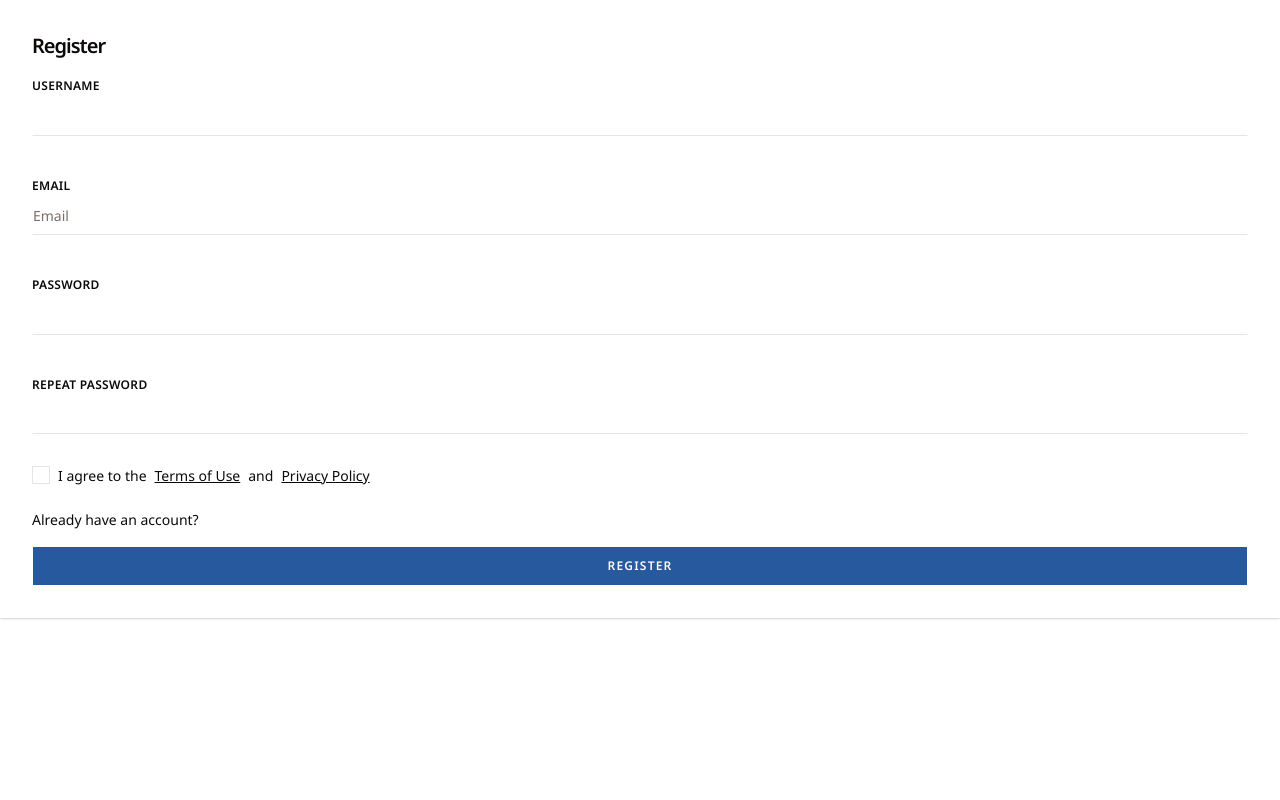
Test case: RegisterForm › tells the user when the email is already registered
The image size is (1280, 800).
Type "Ada" into the 1st field at point(640, 116), box x1=32 y1=96 x2=1248 y2=136
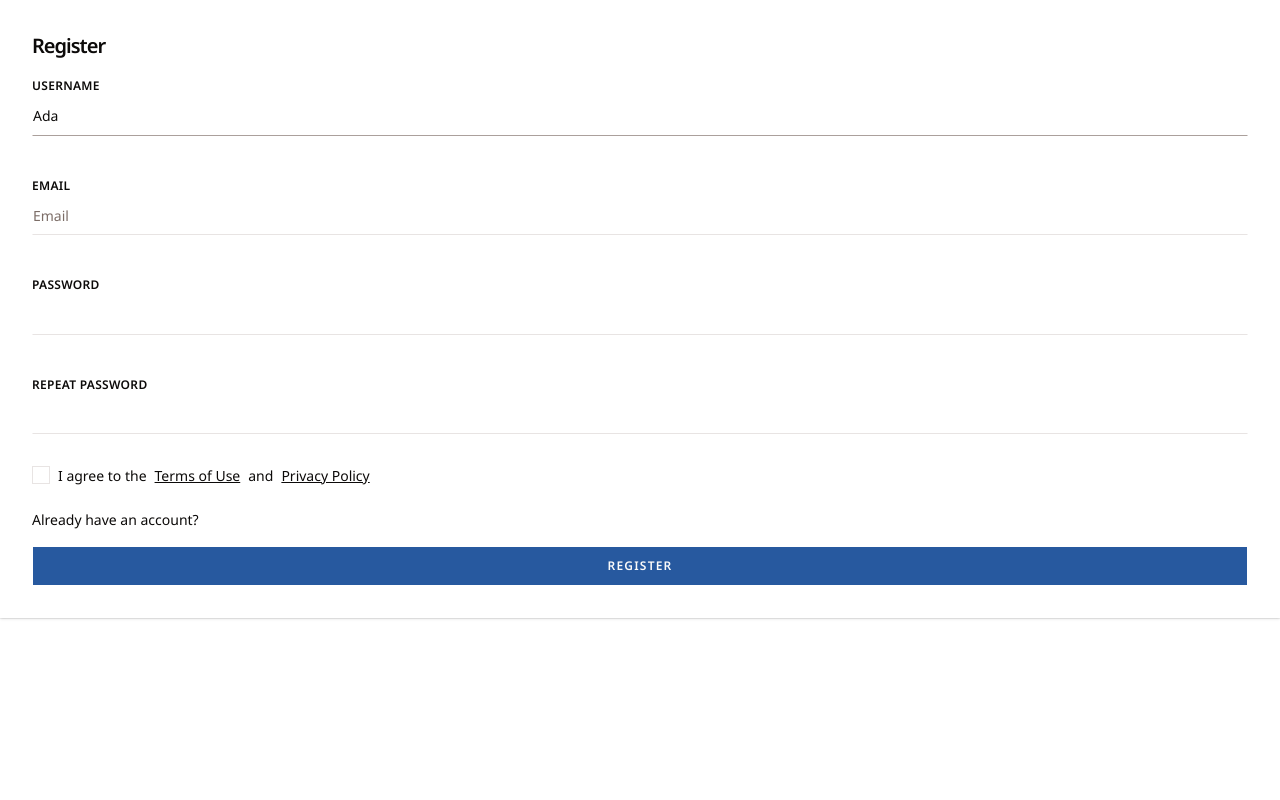
Type "ada@example.com" into the field with placeholder "Email" at point(640, 215), box x1=32 y1=195 x2=1248 y2=235
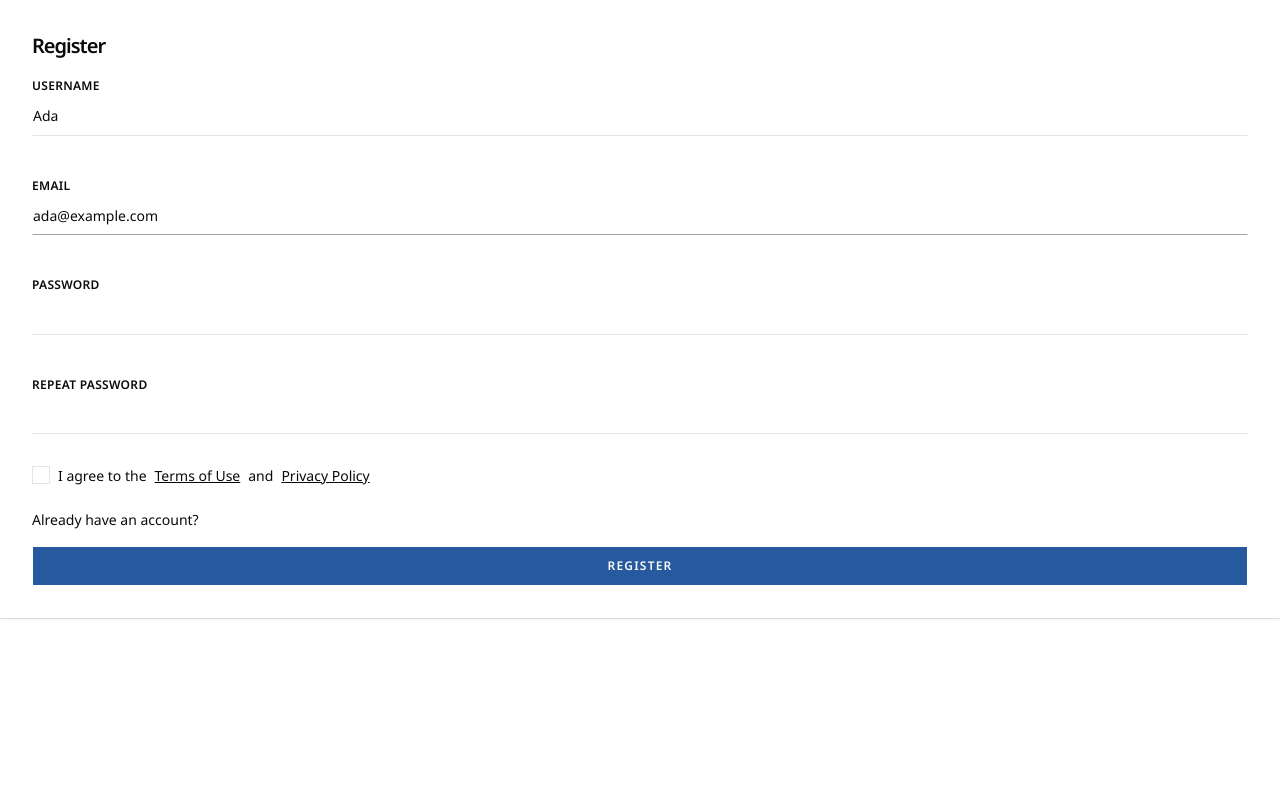
Type "Passw0rdTest" into the 1st password field at point(640, 314), box x1=32 y1=294 x2=1248 y2=334
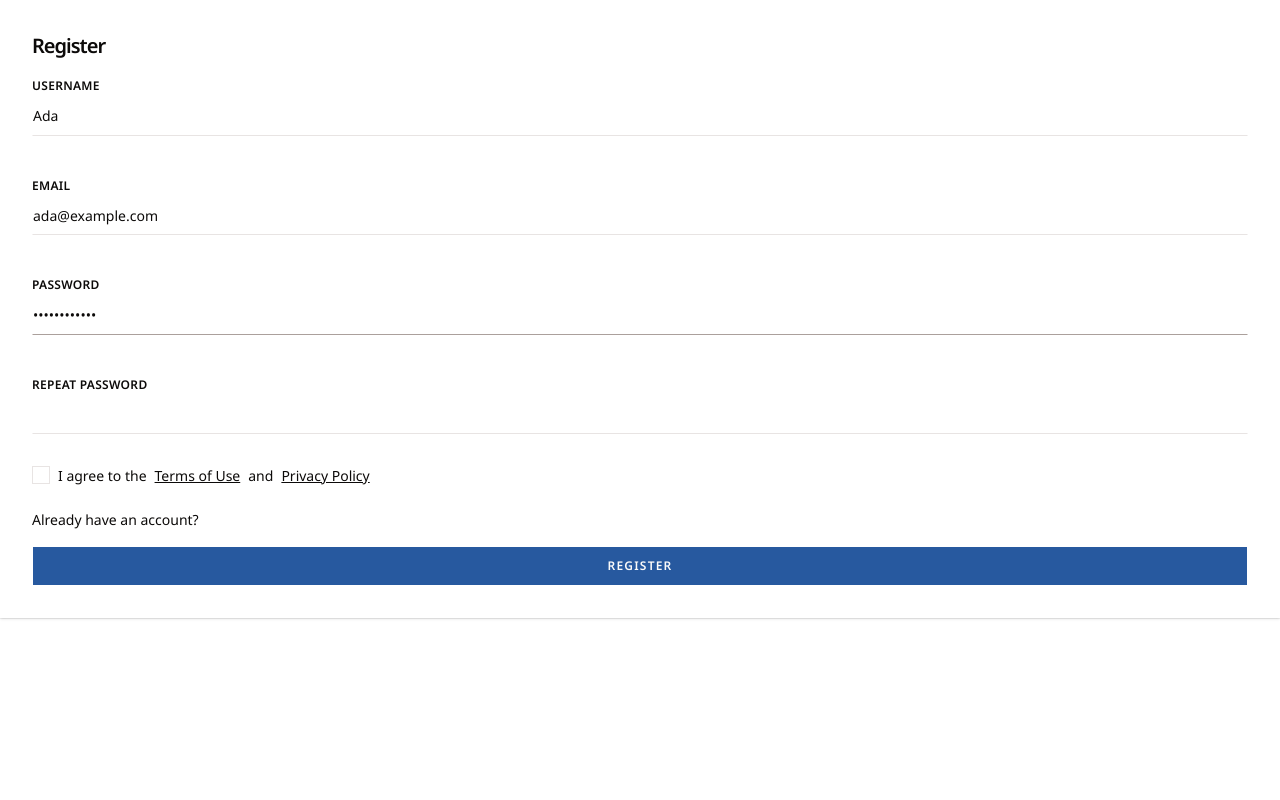
Type "Passw0rdTest" into the password field below "Repeat Password" at point(640, 414), box x1=32 y1=394 x2=1248 y2=434
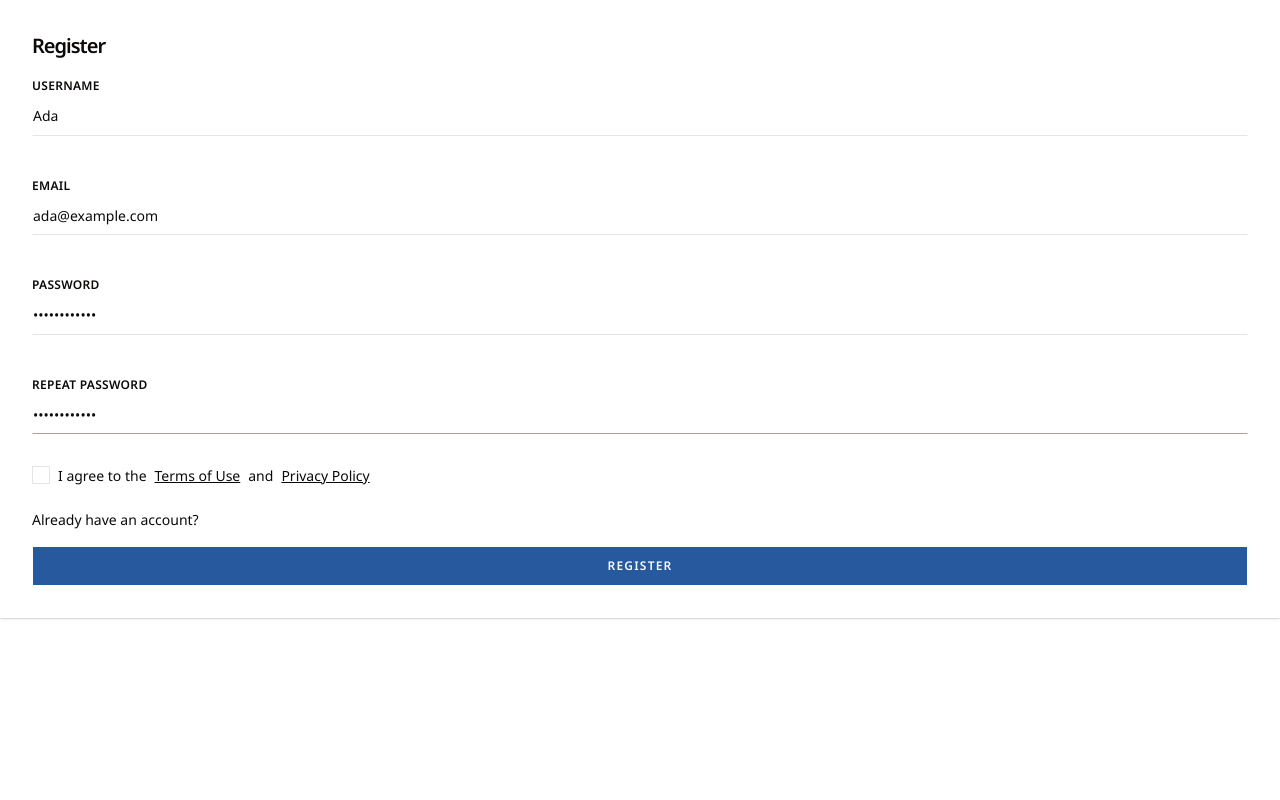
Click the 1st checkbox at point(41, 475), box x1=32 y1=466 x2=50 y2=484
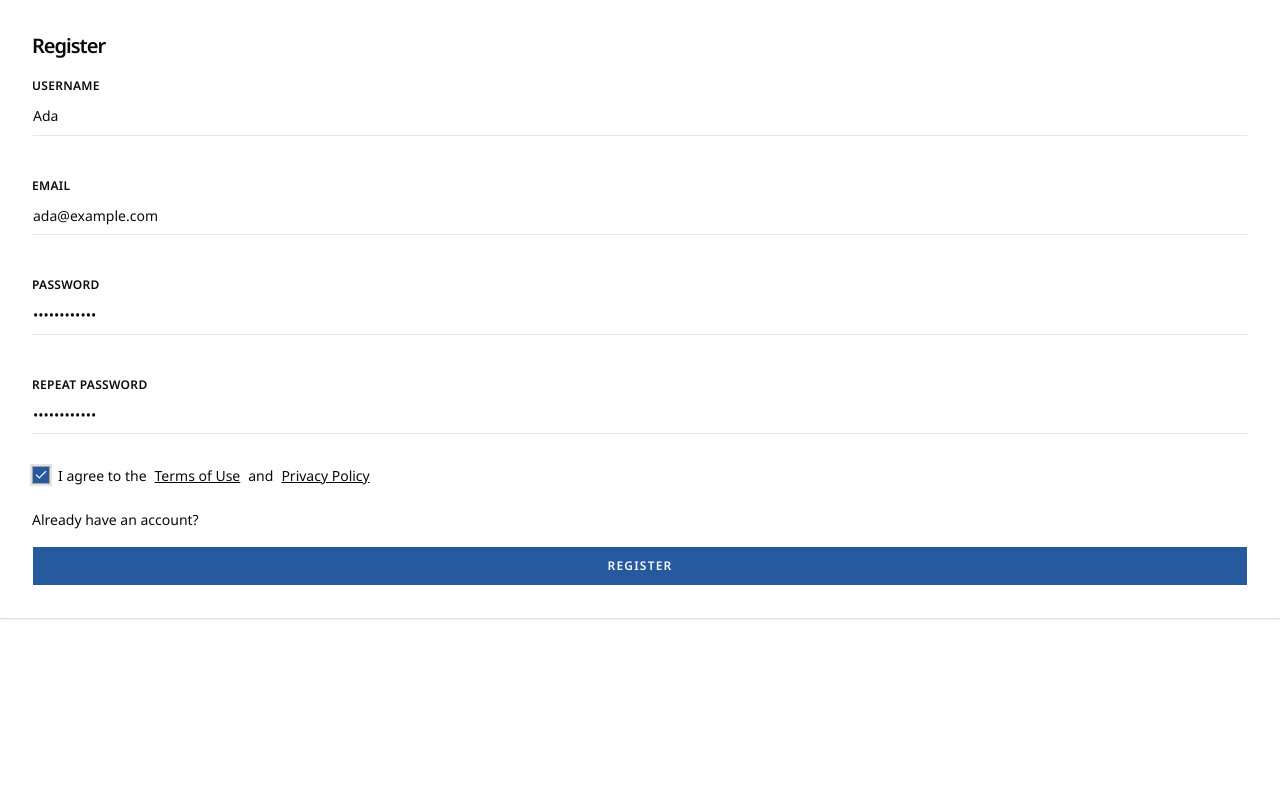
Click the button "Register" at point(640, 566), box x1=32 y1=546 x2=1248 y2=586
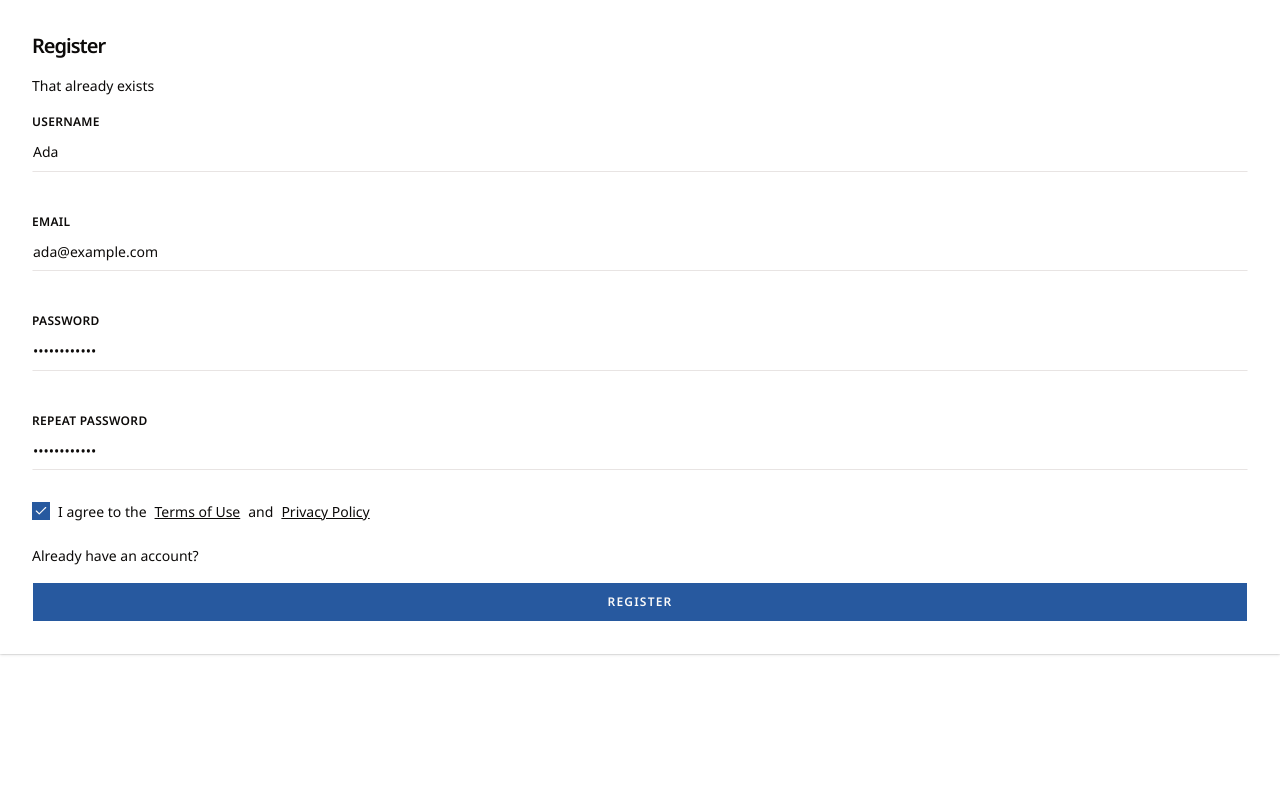
Result: the message reads "That already exists" at x1=32 y1=76 x2=154 y2=95
